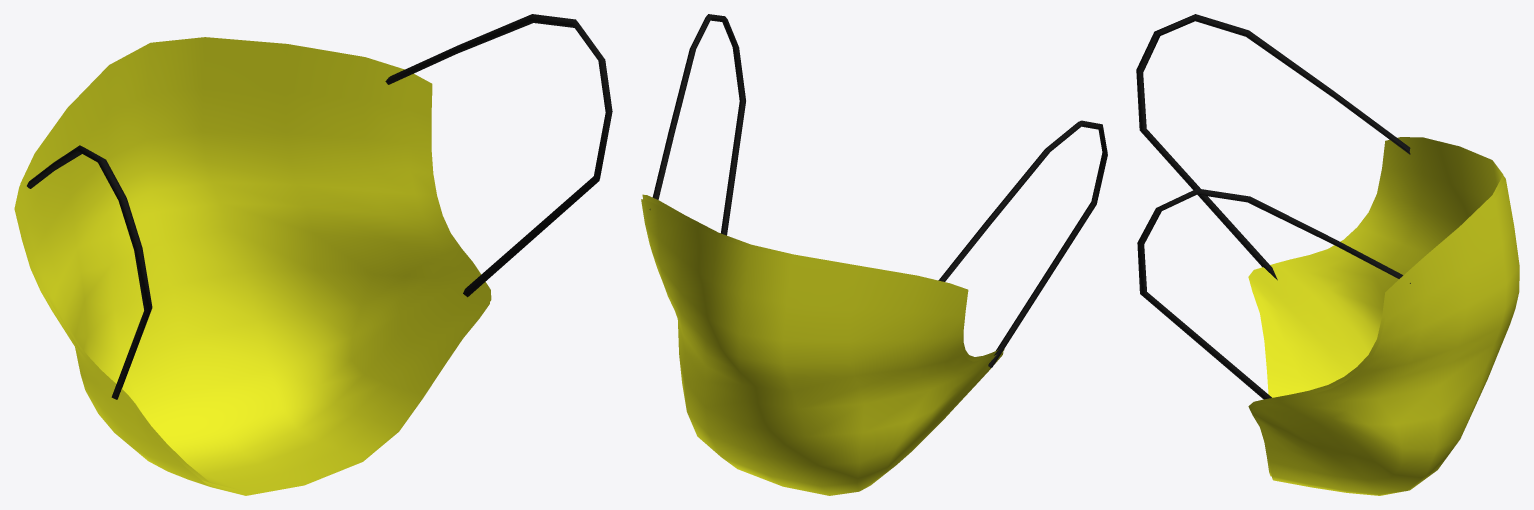
The picture shows the model from 3 angles, left to right: view 1: azimuth 30°, elevation 25°; view 2: azimuth 150°, elevation 25°; view 3: azimuth 270°, elevation 25°; orthographic projection. The views are drawn at different scales.
Parts seen in each view (by area): view 1: MedicalMask1:medmask001, MedicalMask1:medmask, MedicalMask1:cord1, MedicalMask1:cord; view 2: MedicalMask1:medmask, MedicalMask1:cord, MedicalMask1:cord1, MedicalMask1:medmask001; view 3: MedicalMask1:medmask, MedicalMask1:medmask001, MedicalMask1:cord, MedicalMask1:cord1.
Boxes of the visible parts, bbox=[...] form: MedicalMask1:medmask001: bbox=[15, 37, 491, 492]; MedicalMask1:medmask: bbox=[14, 186, 489, 495]; MedicalMask1:cord1: bbox=[385, 14, 612, 297]; MedicalMask1:cord: bbox=[27, 145, 152, 399]; MedicalMask1:medmask: bbox=[641, 199, 1003, 495]; MedicalMask1:cord: bbox=[938, 120, 1107, 367]; MedicalMask1:cord1: bbox=[649, 14, 745, 235]; MedicalMask1:medmask001: bbox=[642, 194, 1004, 361]; MedicalMask1:medmask: bbox=[1251, 176, 1519, 495]; MedicalMask1:medmask001: bbox=[1248, 137, 1504, 476]; MedicalMask1:cord: bbox=[1136, 14, 1410, 280]; MedicalMask1:cord1: bbox=[1137, 188, 1410, 399].
Bounding box in the file's own units: 26.26 × 23.81 × 21.66.
